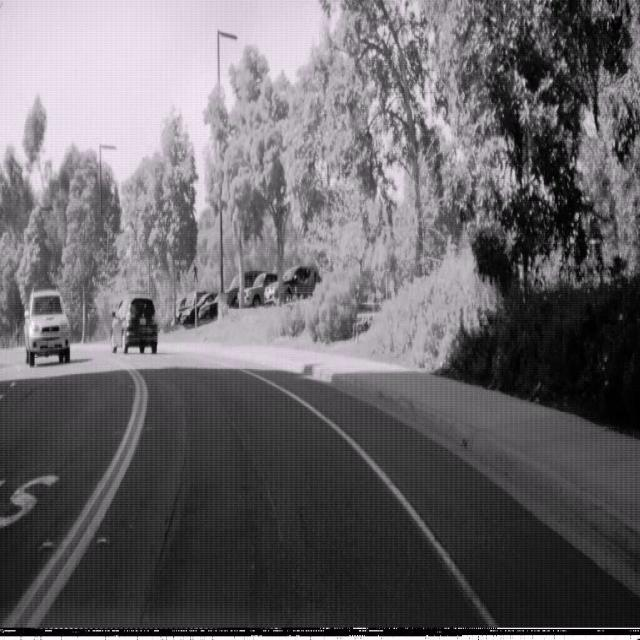pedestrianCrossing: (187, 253, 204, 290)
